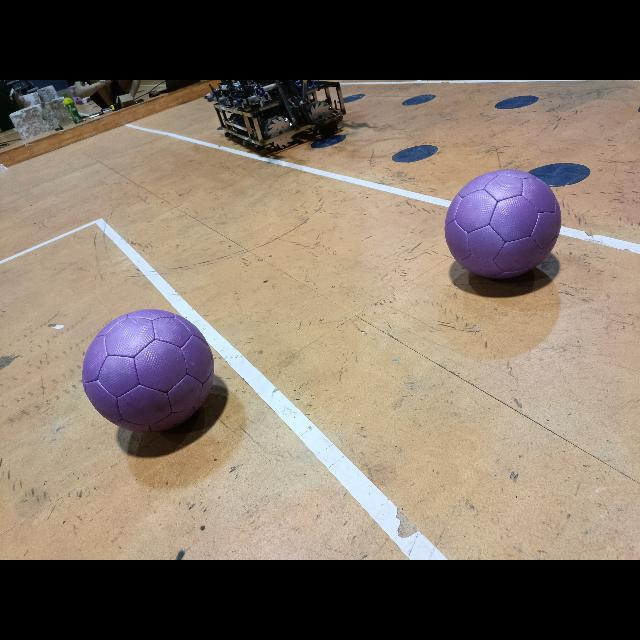P: (82, 308, 214, 432), (445, 170, 561, 278)
